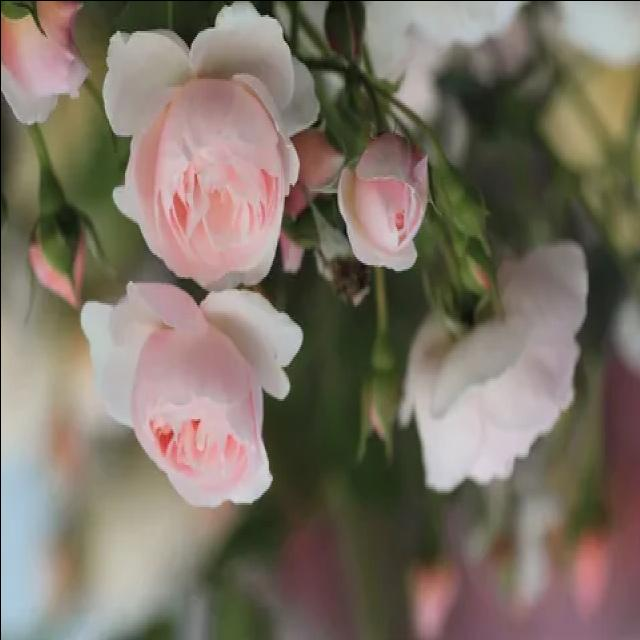rose: (400, 225, 604, 509), (78, 279, 294, 536)
